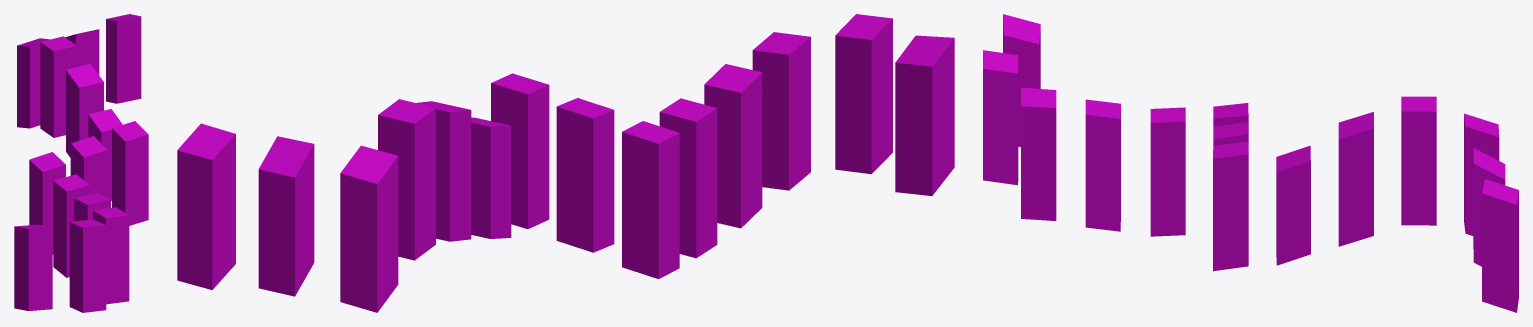
Rendered from M09_Z01_TeethBlock03.glb.
3 renders of one model, left to right at view 1: azimuth 30°, elevation 25°; view 2: azimuth 150°, elevation 25°; view 3: azimuth 270°, elevation 25°, orthographic. The views are drawn at different scales.
Parts seen in each view (by area): view 1: M09_Z01_TEETHBLOCK03; view 2: M09_Z01_TEETHBLOCK03; view 3: M09_Z01_TEETHBLOCK03.
Boxes of the visible parts, left/top/right/bottom form: M09_Z01_TEETHBLOCK03: left=14, top=14, right=148, bottom=312; M09_Z01_TEETHBLOCK03: left=177, top=14, right=954, bottom=312; M09_Z01_TEETHBLOCK03: left=983, top=14, right=1518, bottom=312.
Size of the model in its own units: 28.69 by 12.6 by 34.16.
